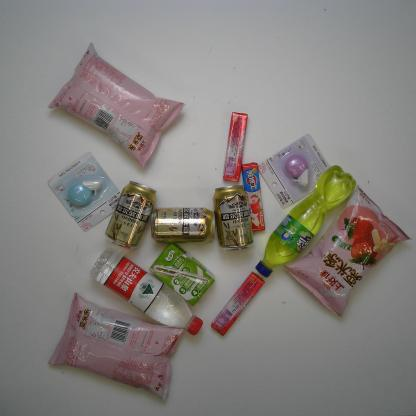Alcohol: (104, 181, 161, 250), (211, 181, 259, 254), (147, 200, 217, 246)
Candy: (210, 267, 270, 339), (218, 112, 250, 184), (239, 161, 268, 233)
Drink: (250, 162, 360, 277), (89, 246, 204, 339)
Milk: (150, 240, 218, 310)
Puffed Food: (47, 40, 190, 172), (280, 185, 412, 321), (45, 294, 185, 404)
Stationery: (45, 150, 127, 238), (254, 131, 338, 211)
